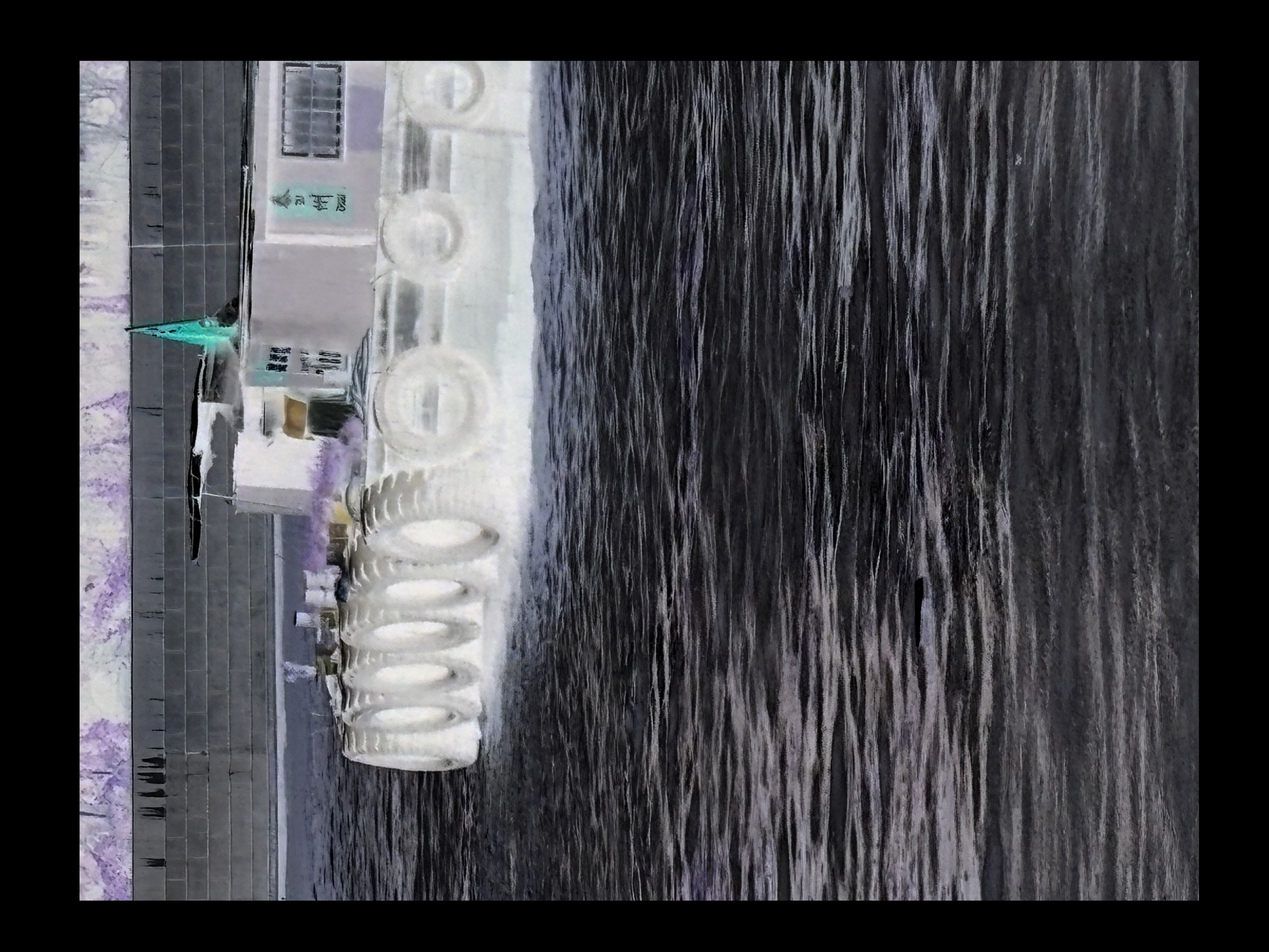Plastic wastes: (940, 559, 960, 634)
